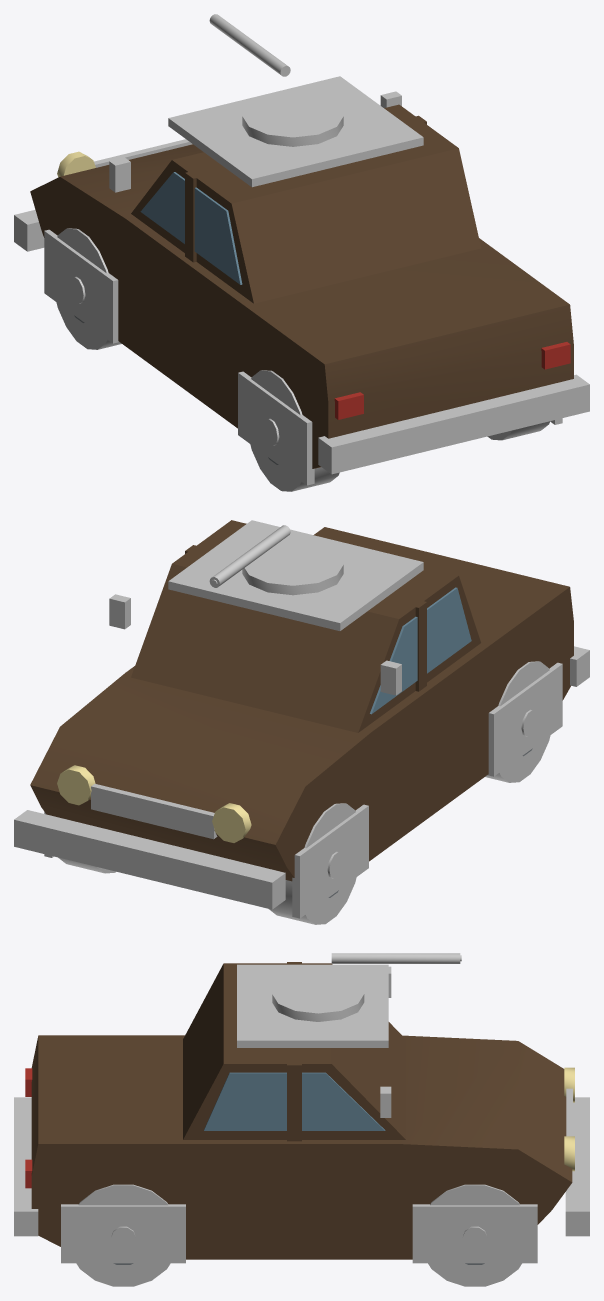
Rendered from kodiak_m249.obj.
The picture shows the model from 3 angles, top to bottom: view 1: azimuth 30°, elevation 25°; view 2: azimuth 150°, elevation 25°; view 3: azimuth 270°, elevation 25°; orthographic projection. The views are drawn at different scales.
Visible parts, largest first — view 1: model; view 2: model; view 3: model.
Boxes of the visible parts, x1,y1,x2,y2 form: model: (14,14,589,491); model: (14,520,589,924); model: (14,953,589,1286).
Bounding box in the file's own units: 2.22 × 2.27 × 4.26.
